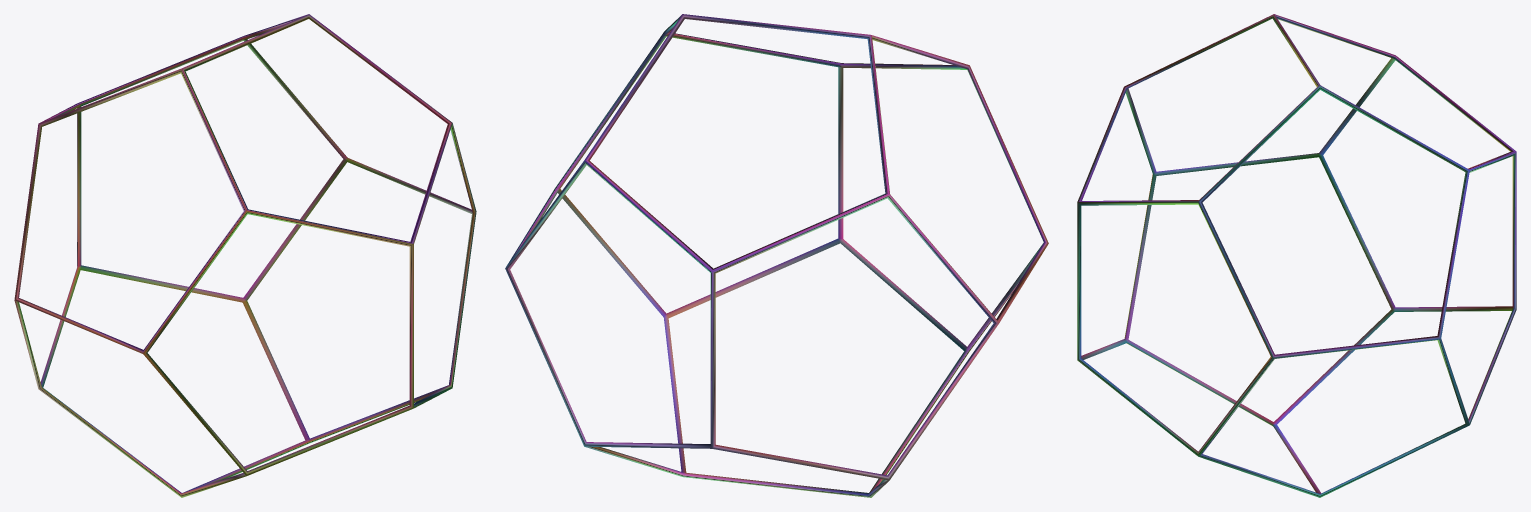
File: zeometry-wireframes-wire-dodecahedron_v2.glb
3 views of the same model, side by side, from view 1: azimuth 30°, elevation 25°; view 2: azimuth 150°, elevation 25°; view 3: azimuth 270°, elevation 25° (orthographic). The views are drawn at different scales.
Visible parts, largest first — view 1: Wire Dodecahedron_v2; view 2: Wire Dodecahedron_v2; view 3: Wire Dodecahedron_v2.
Part boxes in pixels (x1,y1,x2,y2): Wire Dodecahedron_v2: (14,14,476,497); Wire Dodecahedron_v2: (505,14,1048,497); Wire Dodecahedron_v2: (1077,14,1516,497).
Size of the model in its own units: 0.5 by 0.4693 by 0.4527.
